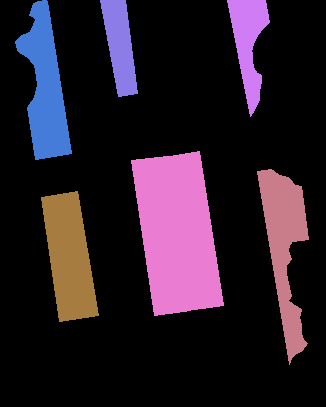parkingspot: (257, 169, 308, 364), (163, 151, 223, 310), (131, 156, 190, 315), (15, 0, 71, 159), (41, 191, 98, 321), (227, 0, 269, 116), (100, 0, 137, 96)
